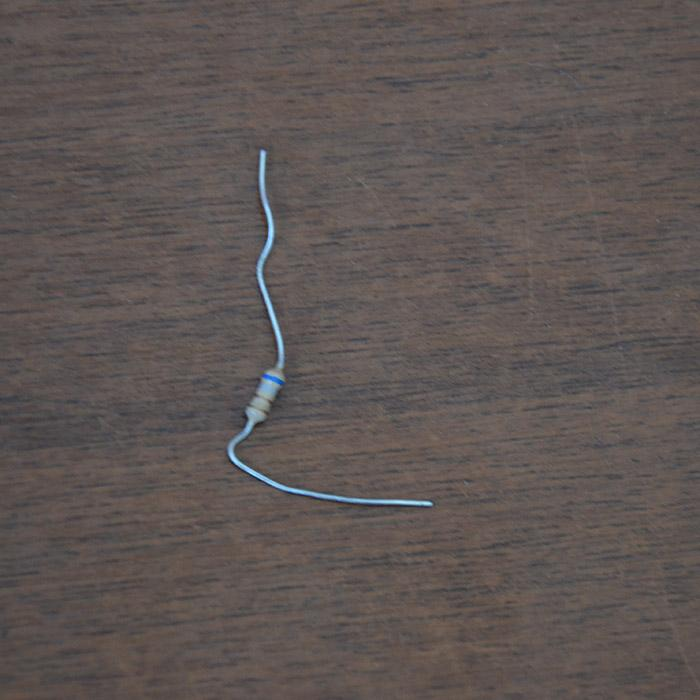resistor: (244, 365, 285, 425)
